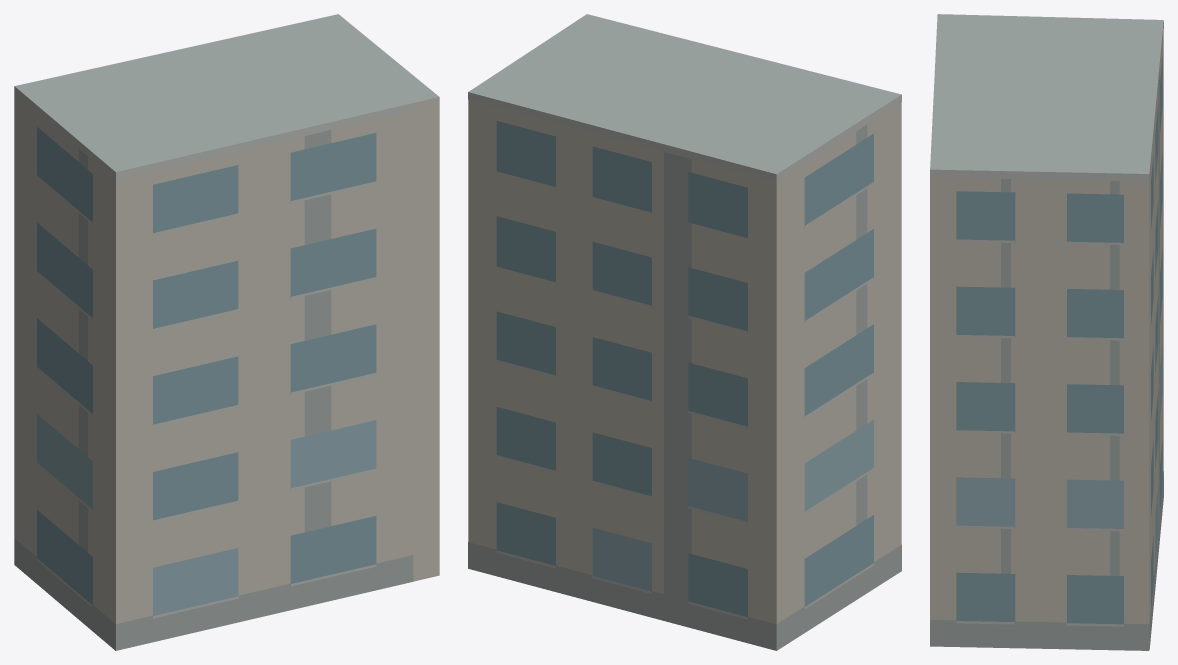
Rendered from survey-upis-32831707.glb.
The picture shows the model from 3 angles, left to right: view 1: azimuth 30°, elevation 25°; view 2: azimuth 150°, elevation 25°; view 3: azimuth 270°, elevation 25°; orthographic projection.
Parts seen in each view (by area): view 1: survey-upis-32831707.tmp; view 2: survey-upis-32831707.tmp; view 3: survey-upis-32831707.tmp.
Boxes of the visible parts, bbox=[...] form: survey-upis-32831707.tmp: bbox=[14, 14, 439, 650]; survey-upis-32831707.tmp: bbox=[468, 14, 901, 650]; survey-upis-32831707.tmp: bbox=[930, 14, 1163, 650].
Bounding box in the file's own units: 10.8 × 15 × 6.67.
